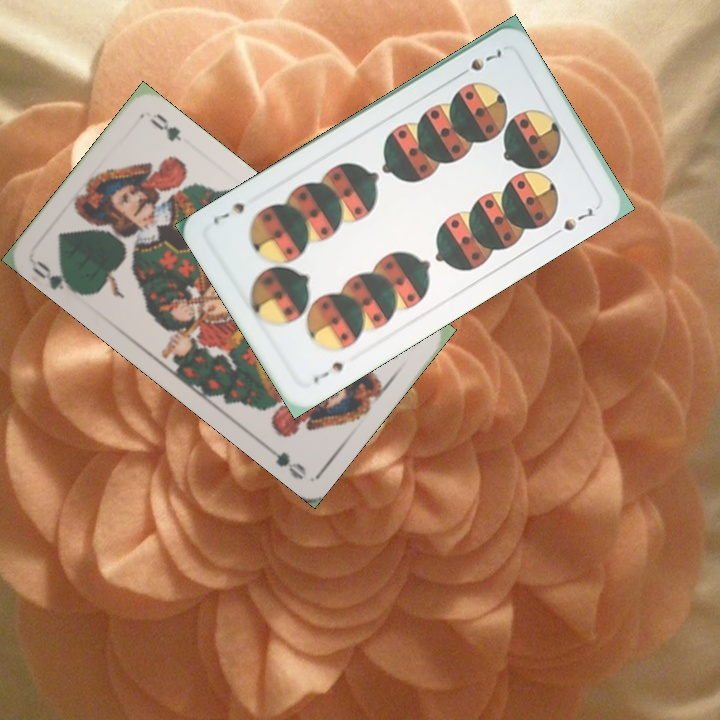GO: (27, 256, 82, 296)
S7: (453, 45, 505, 81), (309, 357, 346, 387)
